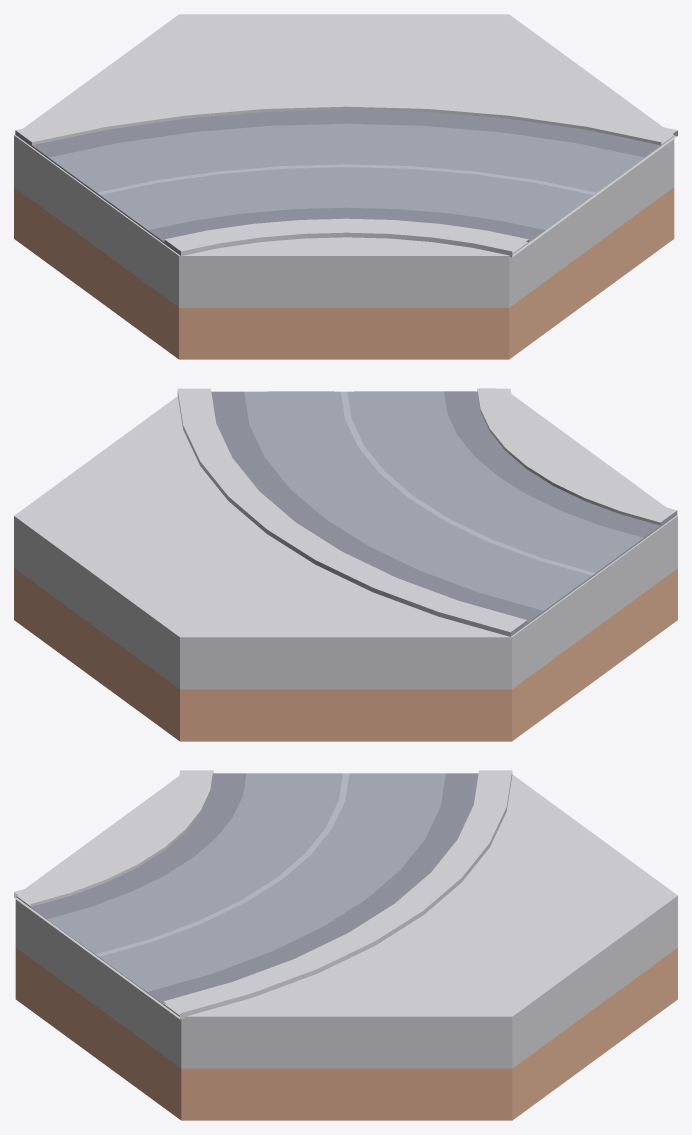
File: slight_curved_road_high.fbx
3 renders of one model, top to bottom at view 1: azimuth 30°, elevation 25°; view 2: azimuth 150°, elevation 25°; view 3: azimuth 270°, elevation 25°, orthographic.
Parts seen in each view (by area): view 1: pavement_high.019, road_curve; view 2: pavement_high.019, road_curve; view 3: pavement_high.019, road_curve.
Part boxes in pixels (x1=…): pavement_high.019: x1=14, y1=14, x2=674, y2=359; road_curve: x1=15, y1=92, x2=677, y2=257; pavement_high.019: x1=14, y1=394, x2=677, y2=741; road_curve: x1=177, y1=388, x2=677, y2=636; pavement_high.019: x1=15, y1=774, x2=677, y2=1120; road_curve: x1=14, y1=770, x2=512, y2=1019.
Bounding box in the file's own units: 101 × 20.89 × 116.
